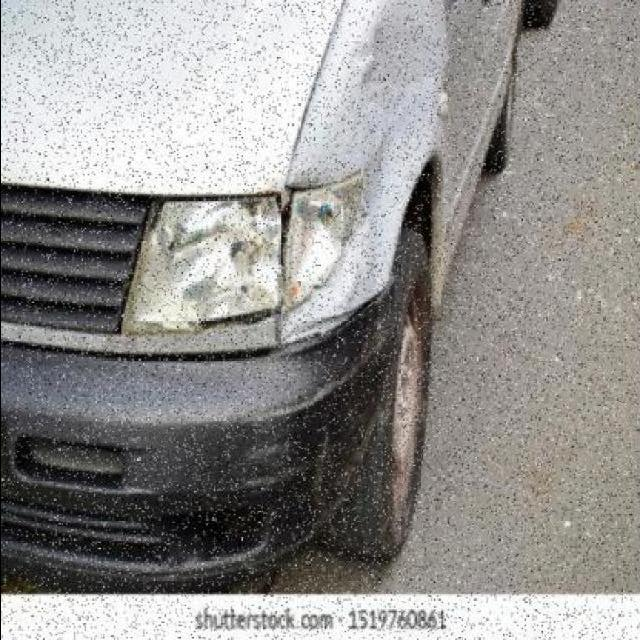fender-dent: (295, 0, 448, 343)
front-bumper-dent: (6, 342, 385, 516)
